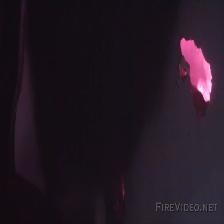fire: (166, 18, 224, 111)
